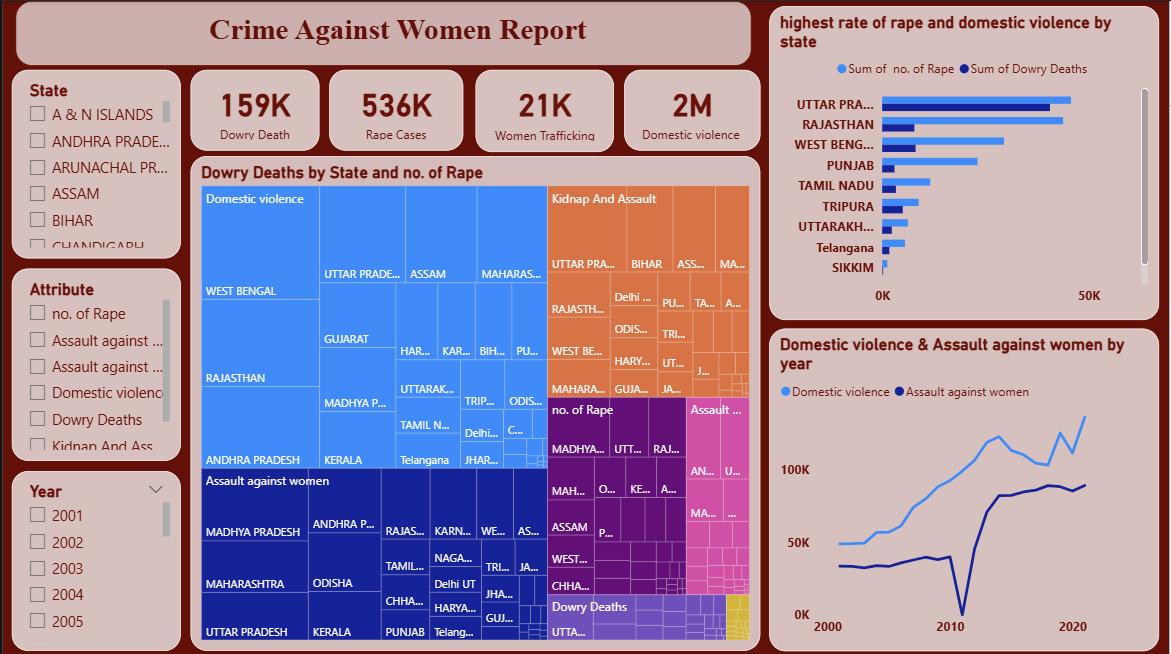

This screenshot's page, from the dashboard's own definition file:
{"tool":"powerbi","page":{"name":"Page 1","canvas":[1280,720],"ordinal":0},"visuals":[{"type":"lineChart","title":"Domestic violence & Assault against women by year","fields":{"Category":["CrimesOnWomenData.Year"],"Y":["Sum(CrimesOnWomenData.Domestic violence)","Sum(CrimesOnWomenData.Assault against women)"]},"box":[841.2,359.5,428.1,354],"z":0},{"type":"clusteredBarChart","title":"highest rate of rape and domestic violence by state","fields":{"Category":["CrimesOnWomenData.State"],"Y":["Sum(CrimesOnWomenData. no. of Rape)","Sum(CrimesOnWomenData.Dowry Deaths)"]},"box":[841.2,5.5,428.1,344.4],"z":1000},{"type":"card","fields":{"Values":["Sum(CrimesOnWomenData. no. of Rape)"]},"box":[358.1,75.5,146.8,89.2],"z":2000},{"type":"card","fields":{"Values":["Sum(CrimesOnWomenData.Domestic violence)"]},"box":[682,75.5,149.6,89.2],"z":3000},{"type":"card","fields":{"Values":["Sum(CrimesOnWomenData.Dowry Deaths)"]},"box":[205.8,75.5,141.3,89.2],"z":4000},{"type":"card","fields":{"Values":["Sum(CrimesOnWomenData.Women Trafficking)"]},"box":[518.7,75.5,152.3,90.6],"z":5000},{"type":"slicer","fields":{"Values":["CrimesOnWomenData.State"]},"box":[9.6,75.5,185.2,207.2],"z":6000},{"type":"slicer","fields":{"Values":["CrimesOnWomenData.Year"]},"box":[9.6,516,185.2,197.6],"z":7000},{"type":"slicer","fields":{"Values":["CrimesOnWomenData (2).Attribute"]},"box":[9.6,293.7,185.2,211.3],"z":8000},{"type":"treemap","title":"Dowry Deaths by State and  no. of Rape","fields":{"Group":["CrimesOnWomenData (2).Attribute","CrimesOnWomenData. no. of Rape"],"Details":["CrimesOnWomenData (2).State"],"Values":["Sum(CrimesOnWomenData (2).Value)"]},"box":[205.8,170.2,625.7,543.4],"z":9000},{"type":"textbox","box":[13.7,0,808.2,71.4],"z":10000}]}

Visuals, with their boxes in screenshot pixels (x1, y1, x2, y2), scaled from the page's 1280x720 canvas onto the 1171x654 screenshot:
"Domestic violence & Assault against women by year" lineChart: 770, 327, 1161, 648
"highest rate of rape and domestic violence by state" clusteredBarChart: 770, 5, 1161, 318
card - Sum(CrimesOnWomenData. no. of Rape): 328, 69, 462, 150
card - Sum(CrimesOnWomenData.Domestic violence): 624, 69, 761, 150
card - Sum(CrimesOnWomenData.Dowry Deaths): 188, 69, 318, 150
card - Sum(CrimesOnWomenData.Women Trafficking): 475, 69, 614, 151
slicer - CrimesOnWomenData.State: 9, 69, 178, 257
slicer - CrimesOnWomenData.Year: 9, 469, 178, 648
slicer - CrimesOnWomenData (2).Attribute: 9, 267, 178, 459
"Dowry Deaths by State and  no. of Rape" treemap: 188, 155, 761, 648
textbox: 13, 0, 752, 65
